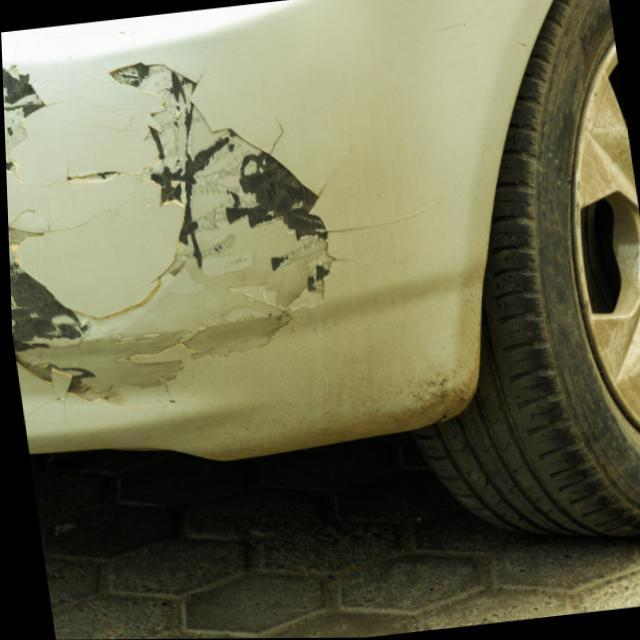scratch: (2, 51, 352, 406)
